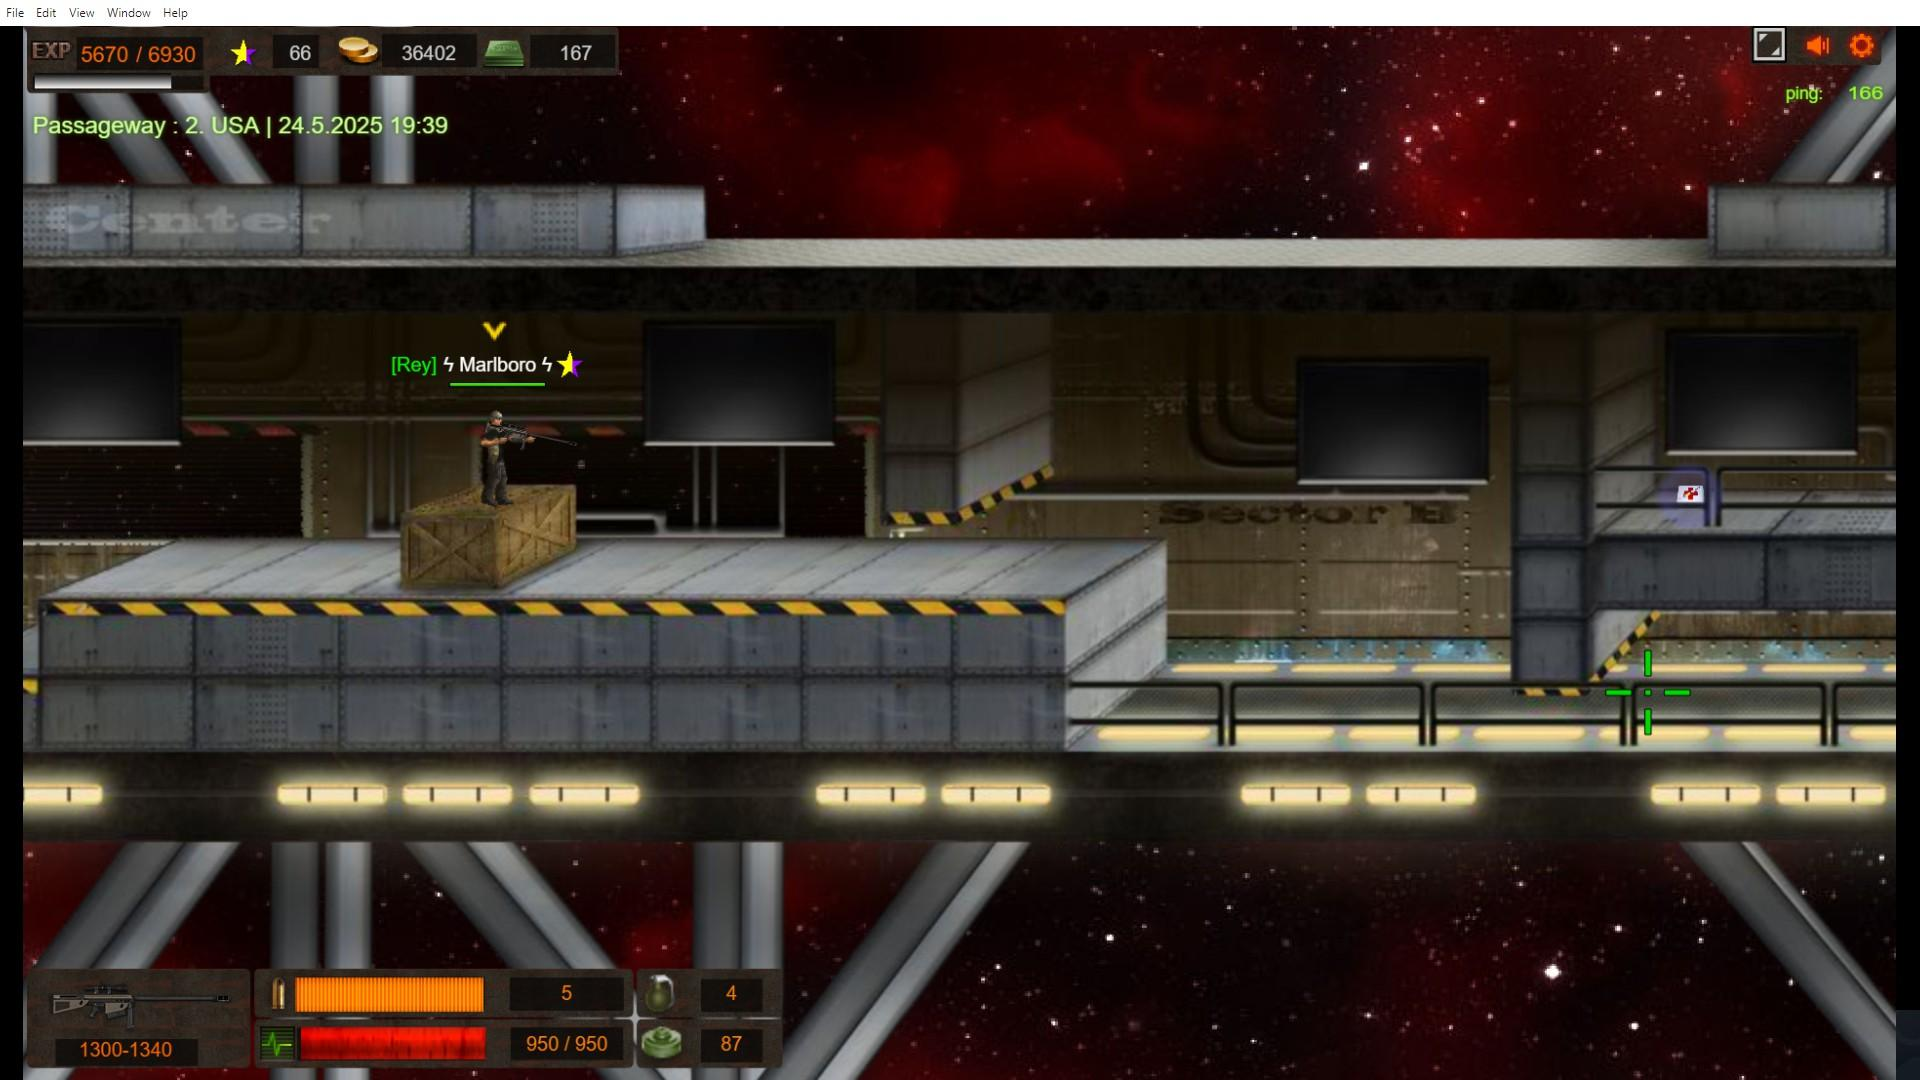enemy: (480, 407, 513, 506)
